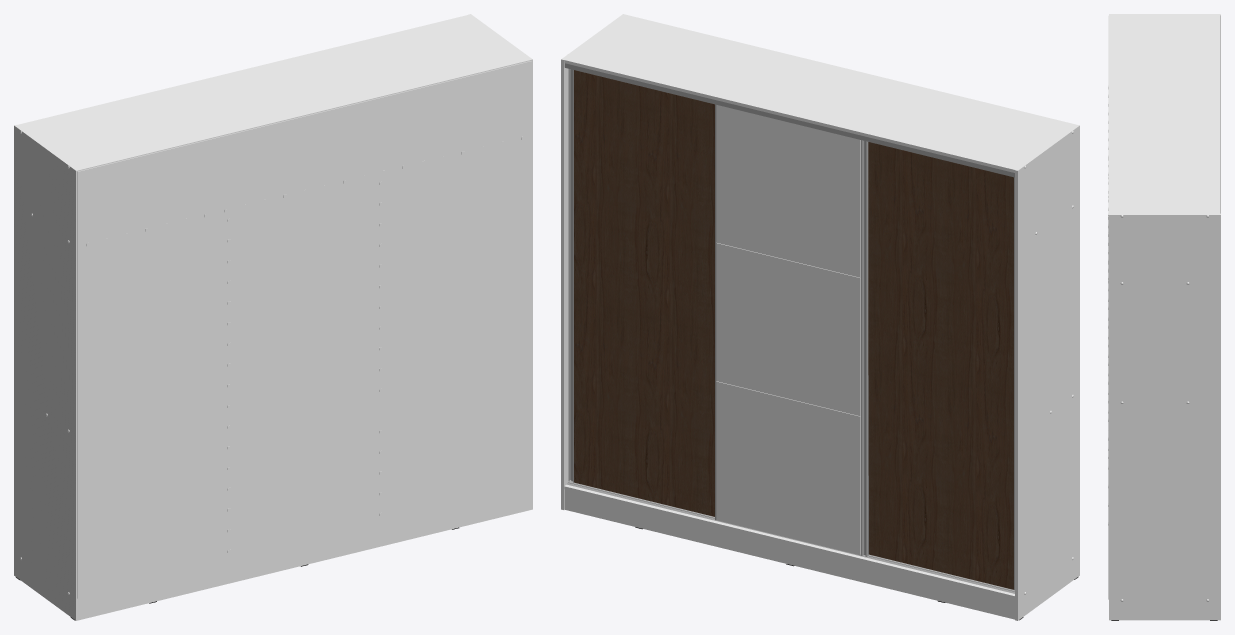
File: MDSA-1063.gltf
3 views of the same model, side by side, from view 1: azimuth 30°, elevation 25°; view 2: azimuth 150°, elevation 25°; view 3: azimuth 270°, elevation 25° (orthographic). The views are drawn at different scales.
Visible parts, largest first — view 1: Fundo_Armario04; view 2: Fundo_Armario04; view 3: Fundo_Armario04.
Boxes of the visible parts, x1,y1,x2,y2 form: Fundo_Armario04: [14, 14, 532, 620]; Fundo_Armario04: [561, 14, 1079, 620]; Fundo_Armario04: [1108, 14, 1220, 620].
Bounding box in the file's own units: 232 × 218 × 54.82.
Materials: 17 (1 with a texture image).
